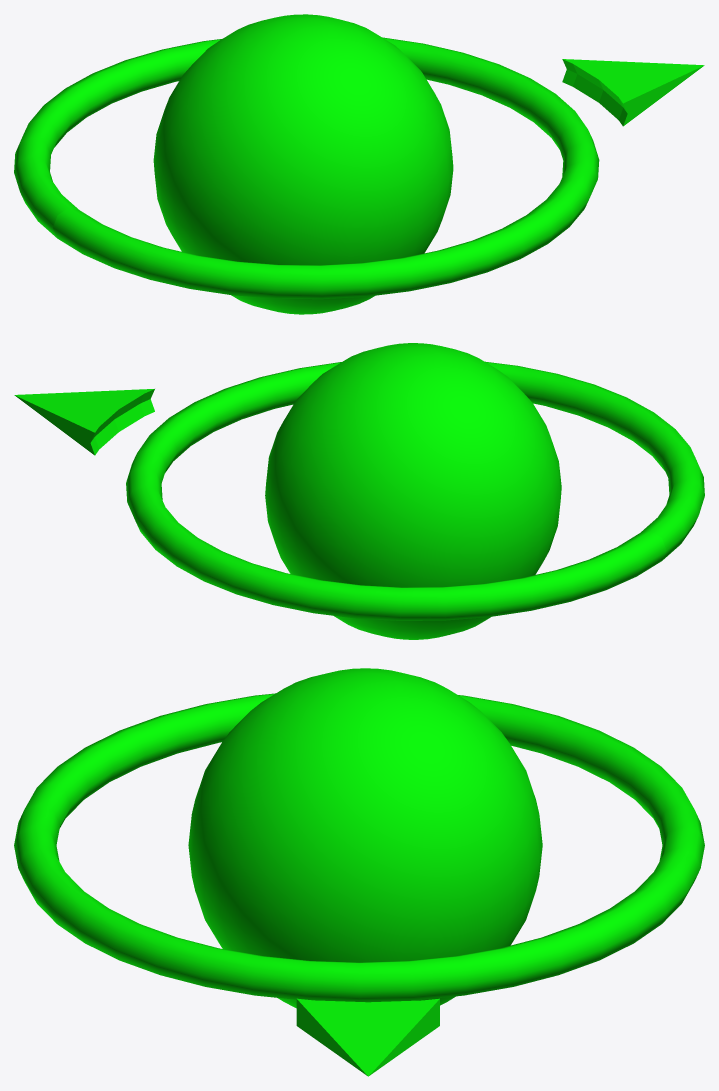
The model's file is Perso_3D.FBX.
The picture shows the model from 3 angles, top to bottom: view 1: azimuth 30°, elevation 25°; view 2: azimuth 150°, elevation 25°; view 3: azimuth 270°, elevation 25°; orthographic projection. The views are drawn at different scales.
Parts seen in each view (by area): view 1: Sphere001, Cylinder001, Pyramid003; view 2: Sphere001, Cylinder001, Pyramid003; view 3: Sphere001, Cylinder001, Pyramid003.
Part boxes in pixels (box(x1,y1,x2,y2)): Sphere001: box(153, 14, 453, 314); Cylinder001: box(14, 37, 599, 299); Pyramid003: box(562, 59, 704, 126); Sphere001: box(265, 343, 561, 639); Cylinder001: box(126, 361, 704, 620); Pyramid003: box(14, 389, 154, 455); Sphere001: box(188, 668, 542, 1008); Cylinder001: box(14, 693, 704, 1002); Pyramid003: box(296, 998, 439, 1076).
Size of the model in its own units: 252 by 100 by 195.
